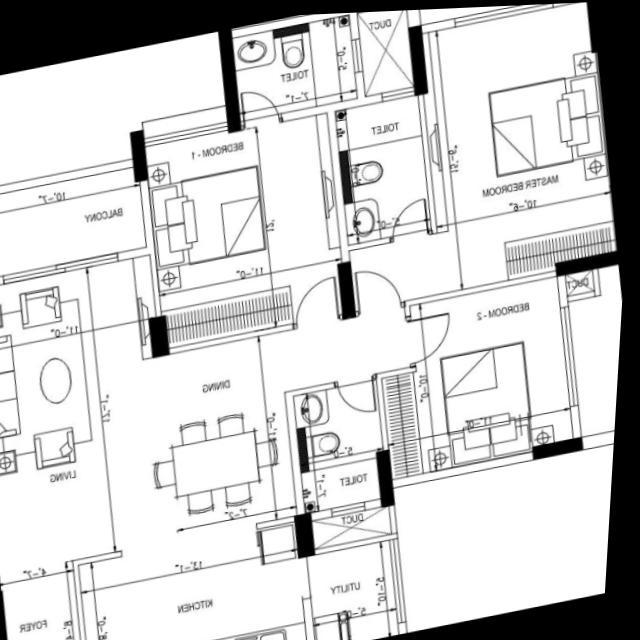Balcony-Sitout: (0, 160, 149, 269)
Bedroom: (385, 269, 584, 480)
Bedroom with Toilet: (335, 2, 620, 309), (147, 10, 365, 344)
Dining: (144, 400, 291, 520)
Enterance-Foyer: (7, 554, 91, 640)
Kitchen: (88, 518, 315, 640)
Living: (0, 255, 155, 568)
Toilet: (336, 93, 435, 242), (234, 11, 359, 117), (300, 377, 394, 511)
Utility: (316, 537, 407, 640)
